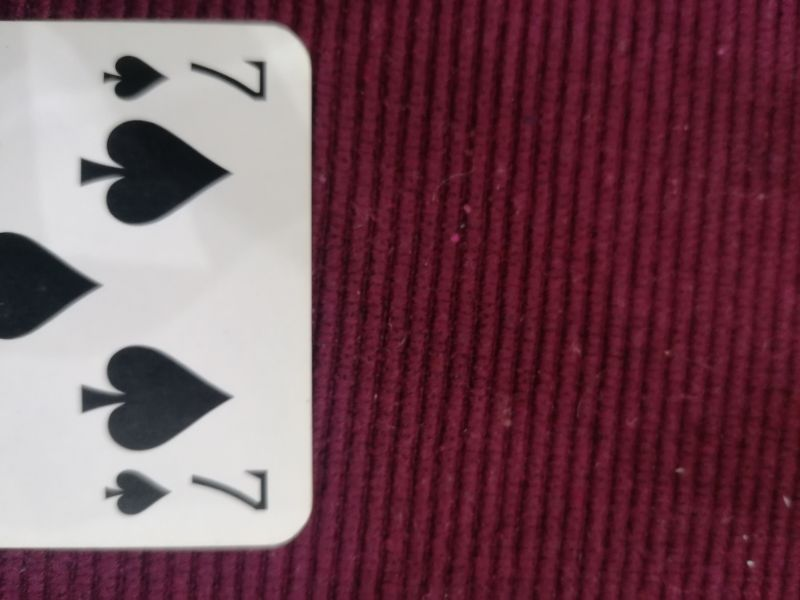7s: (98, 459, 278, 526), (97, 47, 272, 113)
